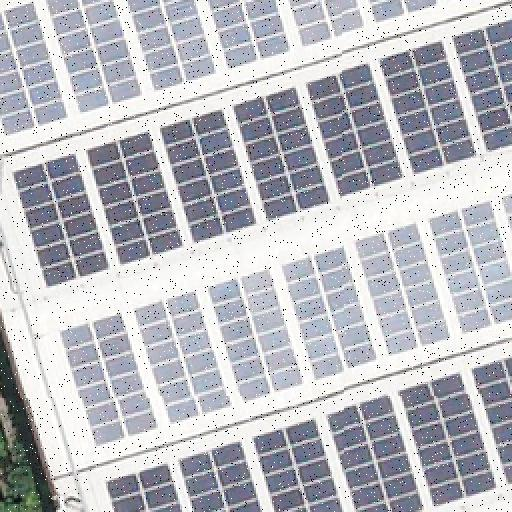solar-panel: (397, 371, 499, 509), (304, 63, 404, 201), (60, 312, 160, 448), (134, 288, 234, 424), (232, 86, 332, 222), (378, 38, 478, 174), (159, 107, 257, 245), (86, 132, 186, 264), (279, 245, 377, 379), (355, 221, 453, 355), (208, 266, 304, 402), (14, 156, 110, 288), (325, 392, 427, 512), (428, 198, 512, 334), (46, 1, 142, 111), (253, 416, 347, 512), (0, 2, 68, 134), (452, 18, 512, 154), (128, 0, 216, 92), (177, 440, 263, 512), (207, 1, 289, 71), (472, 354, 512, 486), (105, 464, 183, 512), (285, 0, 363, 48), (366, 1, 438, 23), (500, 194, 512, 234)
